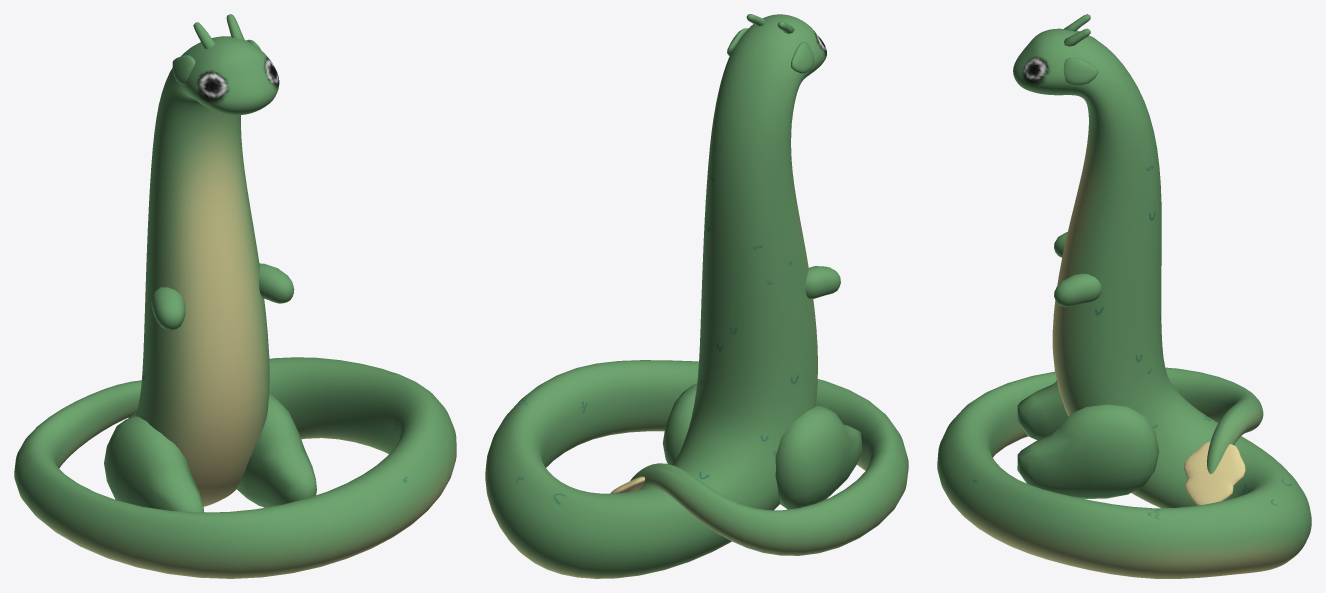
Rendered from Dragon.fbx.
3 renders of one model, left to right at view 1: azimuth 30°, elevation 25°; view 2: azimuth 150°, elevation 25°; view 3: azimuth 270°, elevation 25°, orthographic. The views are drawn at different scales.
Parts seen in each view (by area): view 1: Body, Legs, Arm, Horn; view 2: Body, Legs, Arm, Ear; view 3: Body, Legs, Tail, Arm, Ear.
Boxes of the visible parts, x1,y1,x2,y2 form: Body: (14, 36, 456, 578); Legs: (104, 394, 316, 512); Arm: (151, 263, 294, 330); Horn: (193, 14, 244, 49); Body: (485, 14, 908, 578); Legs: (662, 383, 862, 509); Arm: (805, 266, 840, 299); Ear: (727, 28, 814, 73); Body: (937, 28, 1311, 578); Legs: (1017, 380, 1158, 498); Tail: (1183, 441, 1245, 505); Arm: (1054, 232, 1101, 307); Ear: (1063, 30, 1098, 85).
Size of the model in its own units: 161 by 213 by 148.
Materials: 1 (1 with a texture image).
